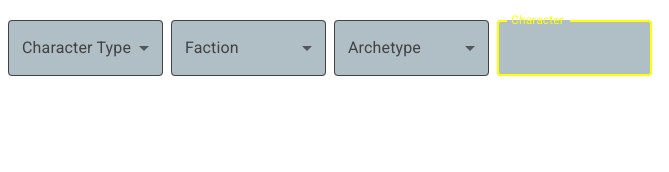
Test case: CharacterFilters Component › faction filter › should handle empty factions array
Press the mouse on the dropdown named "Faction" next to "Faction" at (248, 48), box x1=171 y1=20 x2=326 y2=76
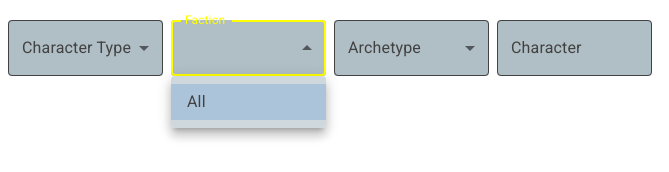
Expected: the option "All" is shown, x1=171 y1=84 x2=326 y2=120
